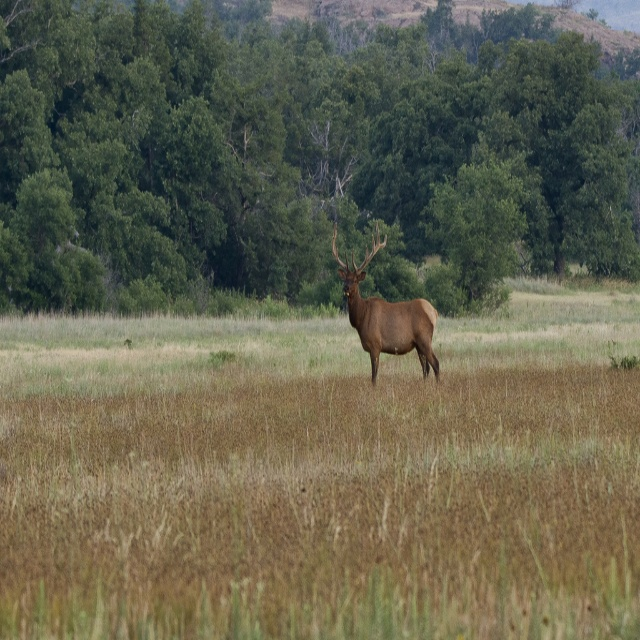Deer: (333, 225, 442, 387)
